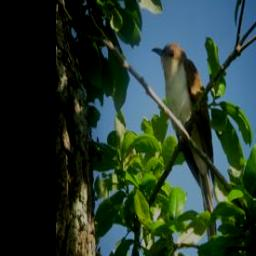Cuckoo: (148, 40, 220, 249)
